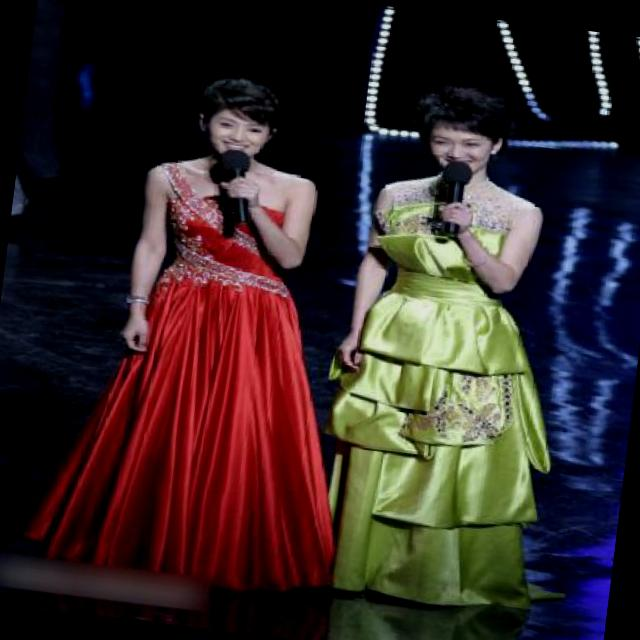Person: (298, 68, 598, 604), (74, 51, 320, 552)
